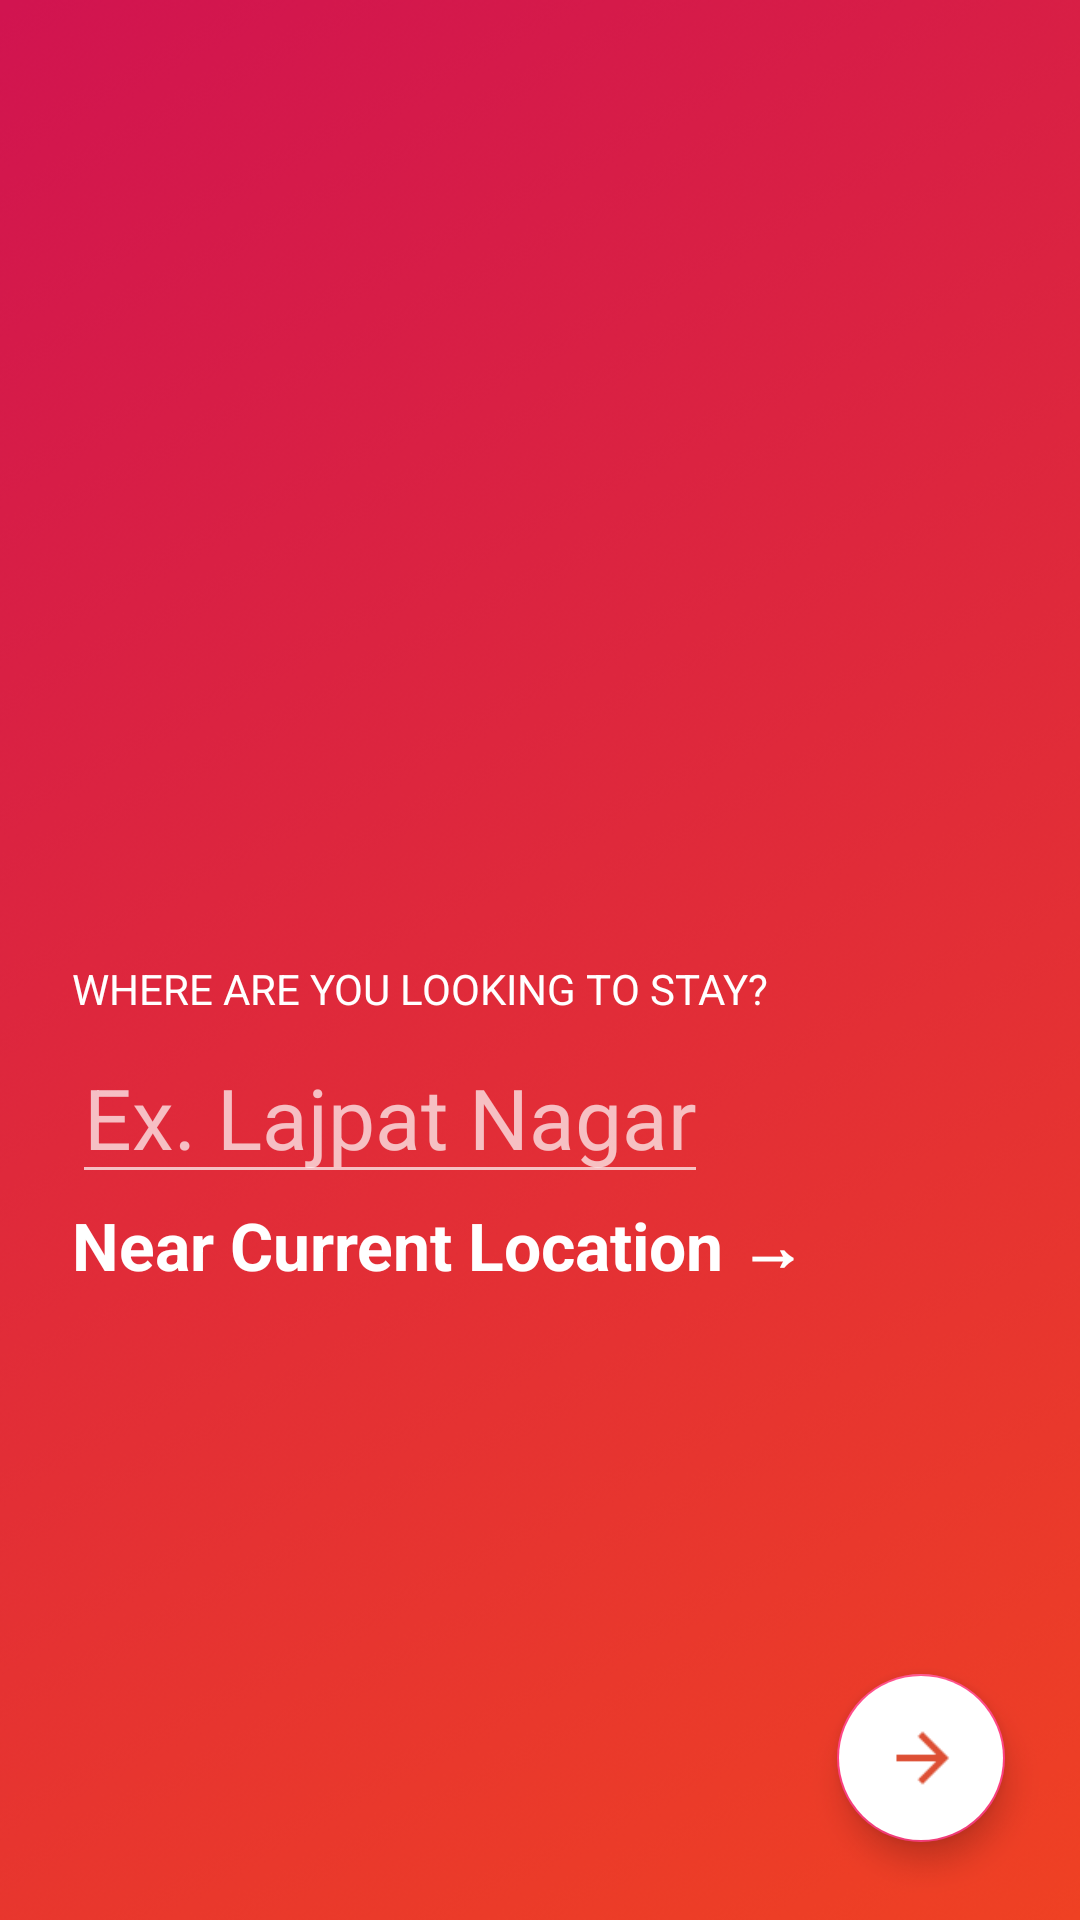

Where icons sit on this 1080px×1920px app screen, as rect(x1, y1, x2, y2):
arrow: rect(837, 1674, 1005, 1842)
